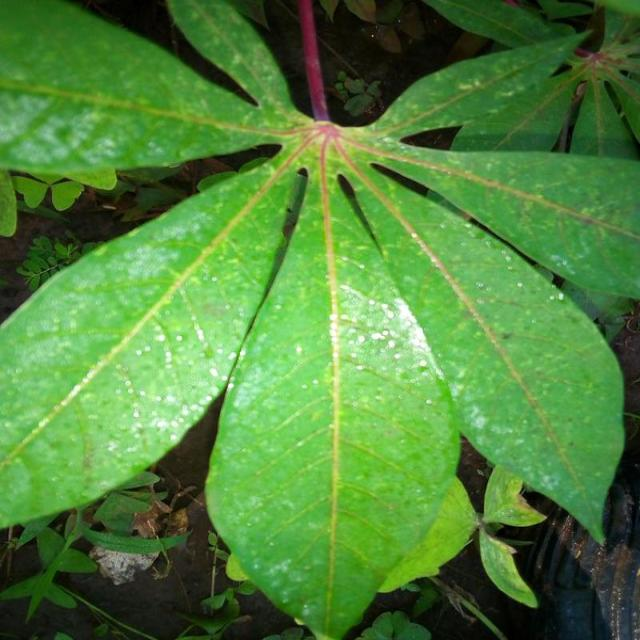cassava leaf: (0, 1, 638, 637), (203, 162, 462, 637)
